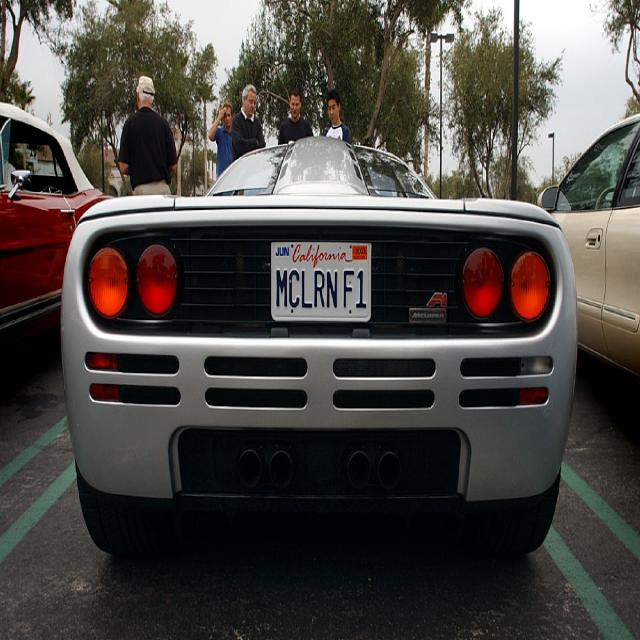Number-Plate: (274, 264, 368, 316)
